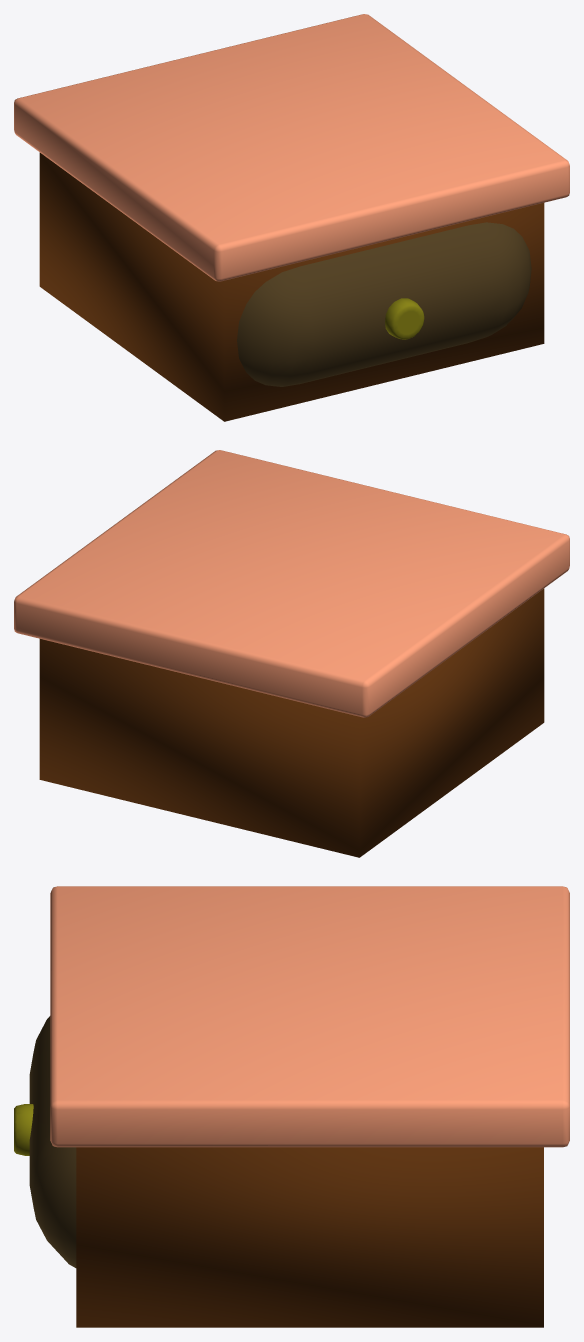
File: counter.glb
The picture shows the model from 3 angles, top to bottom: view 1: azimuth 30°, elevation 25°; view 2: azimuth 150°, elevation 25°; view 3: azimuth 270°, elevation 25°; orthographic projection. The views are drawn at different scales.
Parts seen in each view (by area): view 1: Basic_Cabinet; view 2: Basic_Cabinet; view 3: Basic_Cabinet.
Part boxes in pixels (x1,y1,x2,y2): Basic_Cabinet: (14,14,569,421); Basic_Cabinet: (14,450,569,857); Basic_Cabinet: (14,886,569,1327).
Size of the model in its own units: 1 by 0.5 by 1.07.
